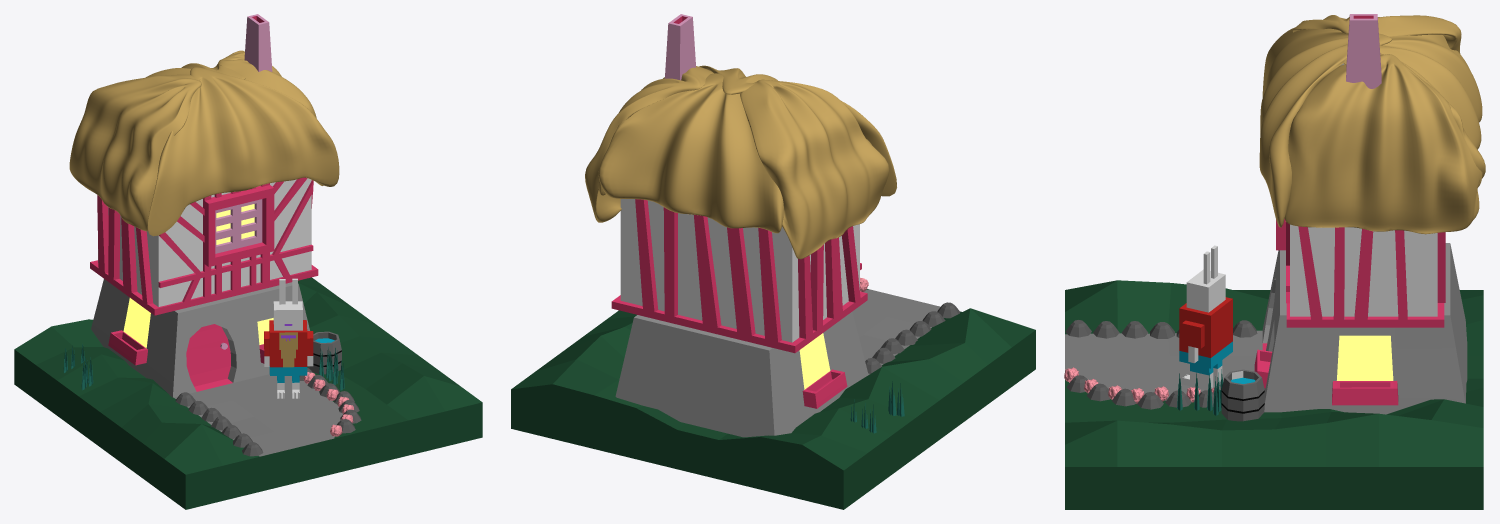
3 renders of one model, left to right at view 1: azimuth 30°, elevation 25°; view 2: azimuth 150°, elevation 25°; view 3: azimuth 270°, elevation 25°, orthographic. The views are drawn at different scales.
Visible parts, largest first — view 1: Object_184, Cabello_60, Object_164, Object_162, Object_166, Object_185, Ratzon_99, Object_165, Object_163, Object_191; view 2: Object_184, Cabello_60, Object_162, Object_164, Object_166, Object_185, Object_165, Object_163; view 3: Object_184, Cabello_60, Object_162, Object_166, Object_164, Object_185, Ratzon_99, Object_163, Object_165, Object_191.
Part boxes in pixels (x1,y1,x2,y2): Object_184: (14,277,482,509); Cabello_60: (69,50,339,236); Object_164: (90,16,318,391); Object_162: (91,279,309,397); Object_166: (98,178,311,306); Object_185: (174,374,342,456); Ratzon_99: (264,278,313,398); Object_165: (215,14,272,349); Object_163: (123,204,273,348); Object_191: (308,331,341,374); Object_184: (511,289,1035,509); Cabello_60: (585,65,896,259); Object_162: (615,312,868,437); Object_164: (611,16,867,408); Object_166: (620,199,859,342); Object_185: (852,289,940,374); Object_165: (664,14,695,80); Object_163: (799,333,830,389); Object_184: (1065,280,1483,509); Cabello_60: (1259,15,1485,234); Object_162: (1262,63,1467,414); Object_166: (1290,224,1437,316); Object_164: (1254,15,1445,405); Object_185: (1065,330,1262,400); Ratzon_99: (1179,245,1232,390); Object_163: (1336,335,1393,380); Object_165: (1346,14,1381,88); Object_191: (1221,369,1264,421).
Bounding box in the file's own units: 8.9 × 10.13 × 8.96.
